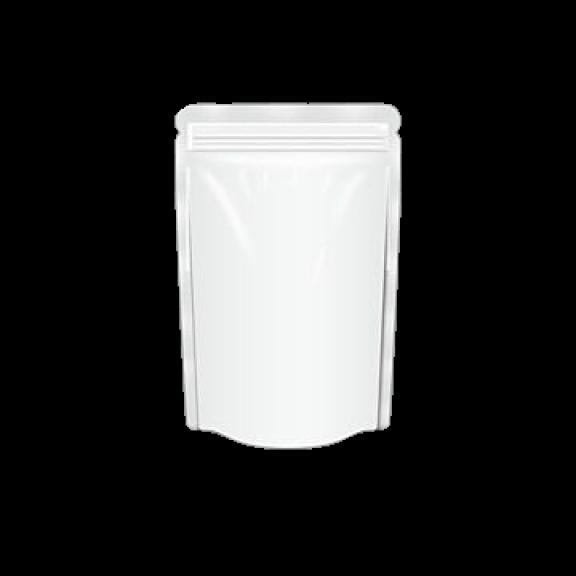Plastik: (167, 88, 408, 448)
